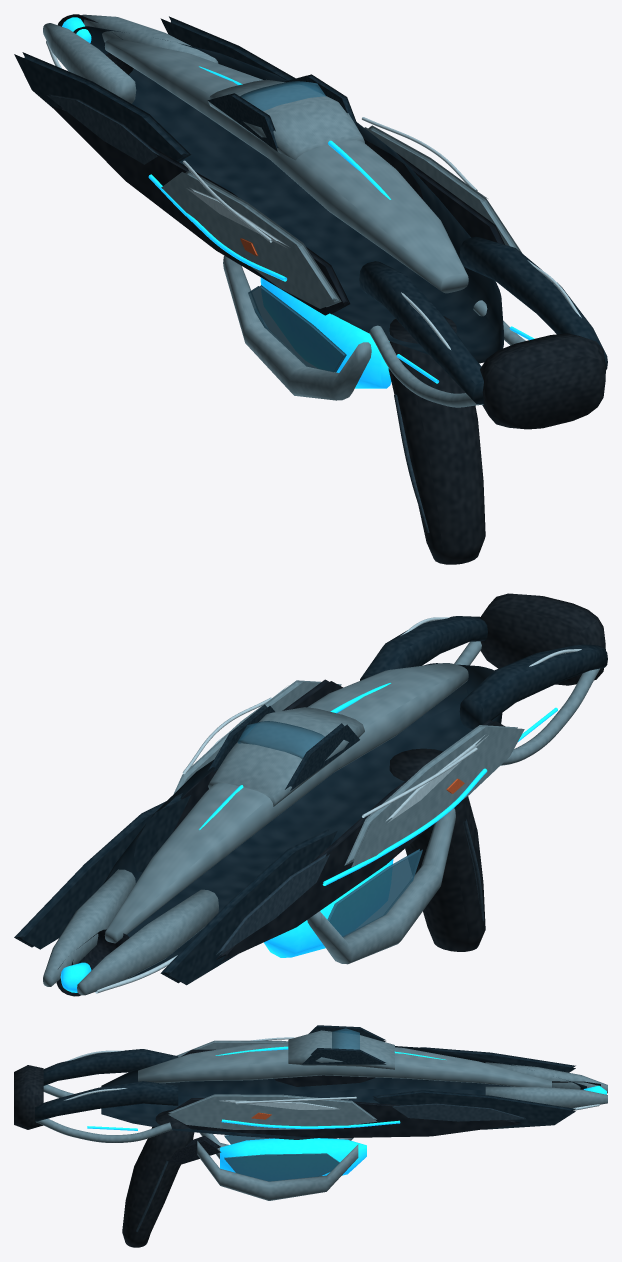
File: aether-s9-vesper-midnight-performance.glb
The picture shows the model from 3 angles, top to bottom: view 1: azimuth 30°, elevation 25°; view 2: azimuth 150°, elevation 25°; view 3: azimuth 270°, elevation 25°; orthographic projection. The views are drawn at different scales.
Visible parts, largest first — view 1: 01 / VESPER sculpted ceramic monocoque, 02 / continuous titanium flight crest, 09 / curved carbon aesthetic grip, 07 / round rear termination, LEFT / floating swept shoulder blade, 10 / flush integrated vision crown, LEFT / continuous rear arc, LEFT / crescent cradle underneath prism, RIGHT / continuous rear arc, LEFT / recessed long flank groove, LEFT / front tapered scythe fin, LEFT / transparent capsule cheek (+12 smaller); view 2: 02 / continuous titanium flight crest, 01 / VESPER sculpted ceramic monocoque, LEFT / floating swept shoulder blade, 09 / curved carbon aesthetic grip, 10 / flush integrated vision crown, 07 / round rear termination, RIGHT / front tapered scythe fin, LEFT / crescent cradle underneath prism, LEFT / front tapered scythe fin, LEFT / continuous rear arc, LEFT / split-petal swept prow, LEFT / recessed long flank groove (+15 smaller); view 3: 02 / continuous titanium flight crest, 01 / VESPER sculpted ceramic monocoque, RIGHT / floating swept shoulder blade, 09 / curved carbon aesthetic grip, RIGHT / recessed long flank groove, RIGHT / front tapered scythe fin, RIGHT / continuous rear arc, RIGHT / crescent cradle underneath prism, 08 / levitating cyan luminous capsule, RIGHT / transparent capsule cheek, 10 / flush integrated vision crown, LEFT / continuous rear arc (+15 smaller).
Part boxes in pixels (box(x1,y1,x2,y2)): 01 / VESPER sculpted ceramic monocoque: box(73, 26, 504, 363); 02 / continuous titanium flight crest: box(104, 38, 468, 293); 09 / curved carbon aesthetic grip: box(388, 316, 485, 564); 07 / round rear termination: box(480, 333, 605, 429); LEFT / floating swept shoulder blade: box(161, 170, 341, 308); 10 / flush integrated vision crown: box(208, 79, 364, 160); LEFT / continuous rear arc: box(359, 261, 483, 404); LEFT / crescent cradle underneath prism: box(223, 255, 371, 400); RIGHT / continuous rear arc: box(459, 236, 607, 369); LEFT / recessed long flank groove: box(51, 104, 350, 315); LEFT / front tapered scythe fin: box(14, 52, 191, 161); LEFT / transparent capsule cheek: box(248, 285, 346, 372); 02 / continuous titanium flight crest: box(104, 663, 468, 943); 01 / VESPER sculpted ceramic monocoque: box(71, 663, 502, 978); LEFT / floating swept shoulder blade: box(344, 725, 524, 867); 09 / curved carbon aesthetic grip: box(389, 748, 485, 951); 10 / flush integrated vision crown: box(208, 707, 364, 806); 07 / round rear termination: box(480, 593, 605, 685); RIGHT / front tapered scythe fin: box(14, 793, 190, 949); LEFT / crescent cradle underneath prism: box(307, 808, 455, 964); LEFT / front tapered scythe fin: box(160, 829, 337, 985); LEFT / continuous rear arc: box(459, 644, 607, 729); LEFT / split-petal swept prow: box(77, 889, 218, 995); LEFT / recessed long flank groove: box(216, 719, 505, 961); 02 / continuous titanium flight crest: box(138, 1042, 551, 1087); 01 / VESPER sculpted ceramic monocoque: box(101, 1046, 586, 1139); RIGHT / floating swept shoulder blade: box(168, 1094, 376, 1129); 09 / curved carbon aesthetic grip: box(122, 1110, 194, 1247); RIGHT / recessed long flank groove: box(171, 1098, 521, 1138); RIGHT / front tapered scythe fin: box(372, 1090, 575, 1129); RIGHT / continuous rear arc: box(35, 1081, 178, 1121); RIGHT / crescent cradle underneath prism: box(197, 1141, 358, 1200); 08 / levitating cyan luminous capsule: box(220, 1138, 366, 1175); RIGHT / transparent capsule cheek: box(224, 1153, 339, 1181); 10 / flush integrated vision crown: box(288, 1030, 394, 1069); LEFT / continuous rear arc: box(43, 1049, 178, 1085).
Size of the model in its own units: 0.862 by 1.3 by 3.4.
9 materials, 9 textured.
